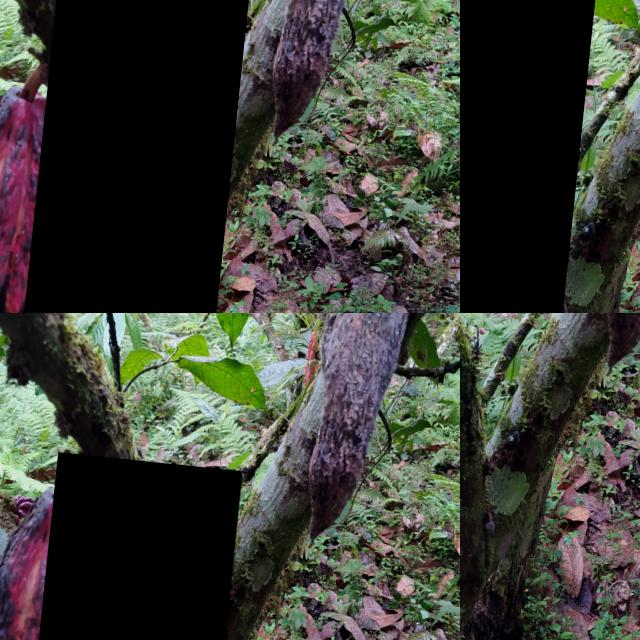Fitoftora: (24, 0, 252, 313), (32, 450, 248, 640)
Monilia: (460, 0, 605, 313)
